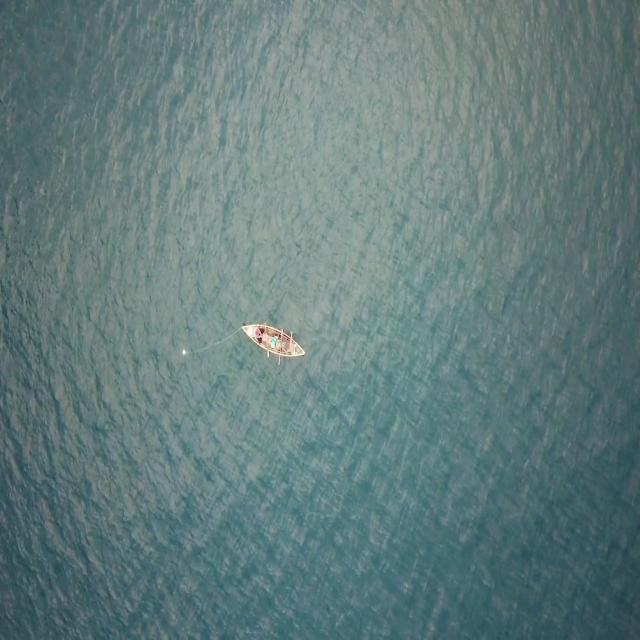ship: (236, 312, 310, 362)
